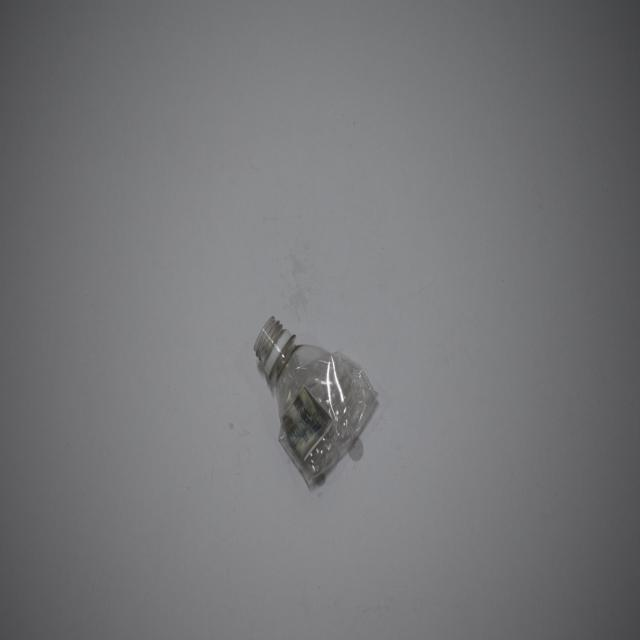bottle: (252, 312, 381, 493)
